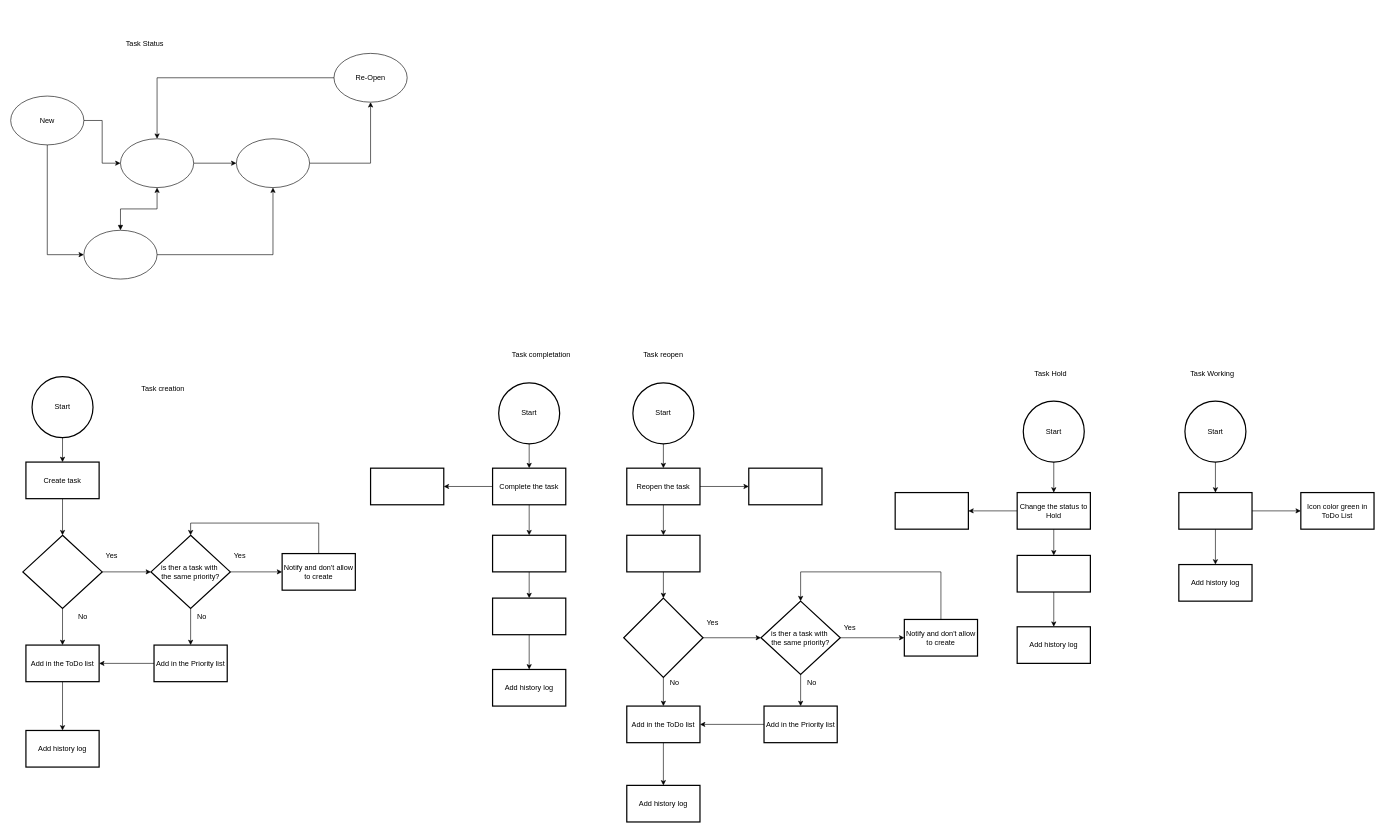
Image size: 1385x833. Some labels were removed from this diagram. The centre of each missing label's shape, as x and y in pixels:
"Ask for closing comments" belongs at pixel 529 616.
"Ask for Hold comments" belongs at pixel 1053 573.
"Change the status to closed" belongs at pixel 529 553.
"Change the status to reopen" belongs at pixel 663 553.
"Change the status to Working" belongs at pixel 1215 510.
"Close" belongs at pixel 273 163.
"Has priority?" belongs at pixel 62 571.
"Hold" belongs at pixel 120 254.
"Icon color gray in ToDo list" belongs at pixel 931 510.
"Icon color red in ToDo List" belongs at pixel 785 486.
"Not appear in ToDo List" belongs at pixel 407 486.
"The priority change?" belongs at pixel 663 637.
"Working" belongs at pixel 157 163.
